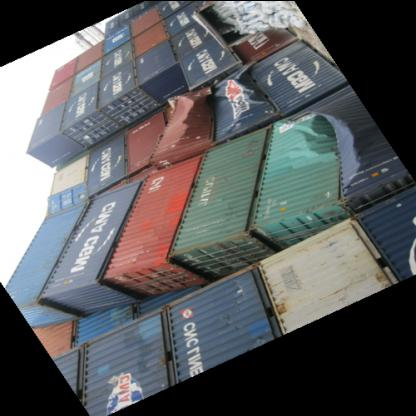Damage: (261, 105, 359, 193), (213, 61, 263, 139), (162, 92, 202, 154)
